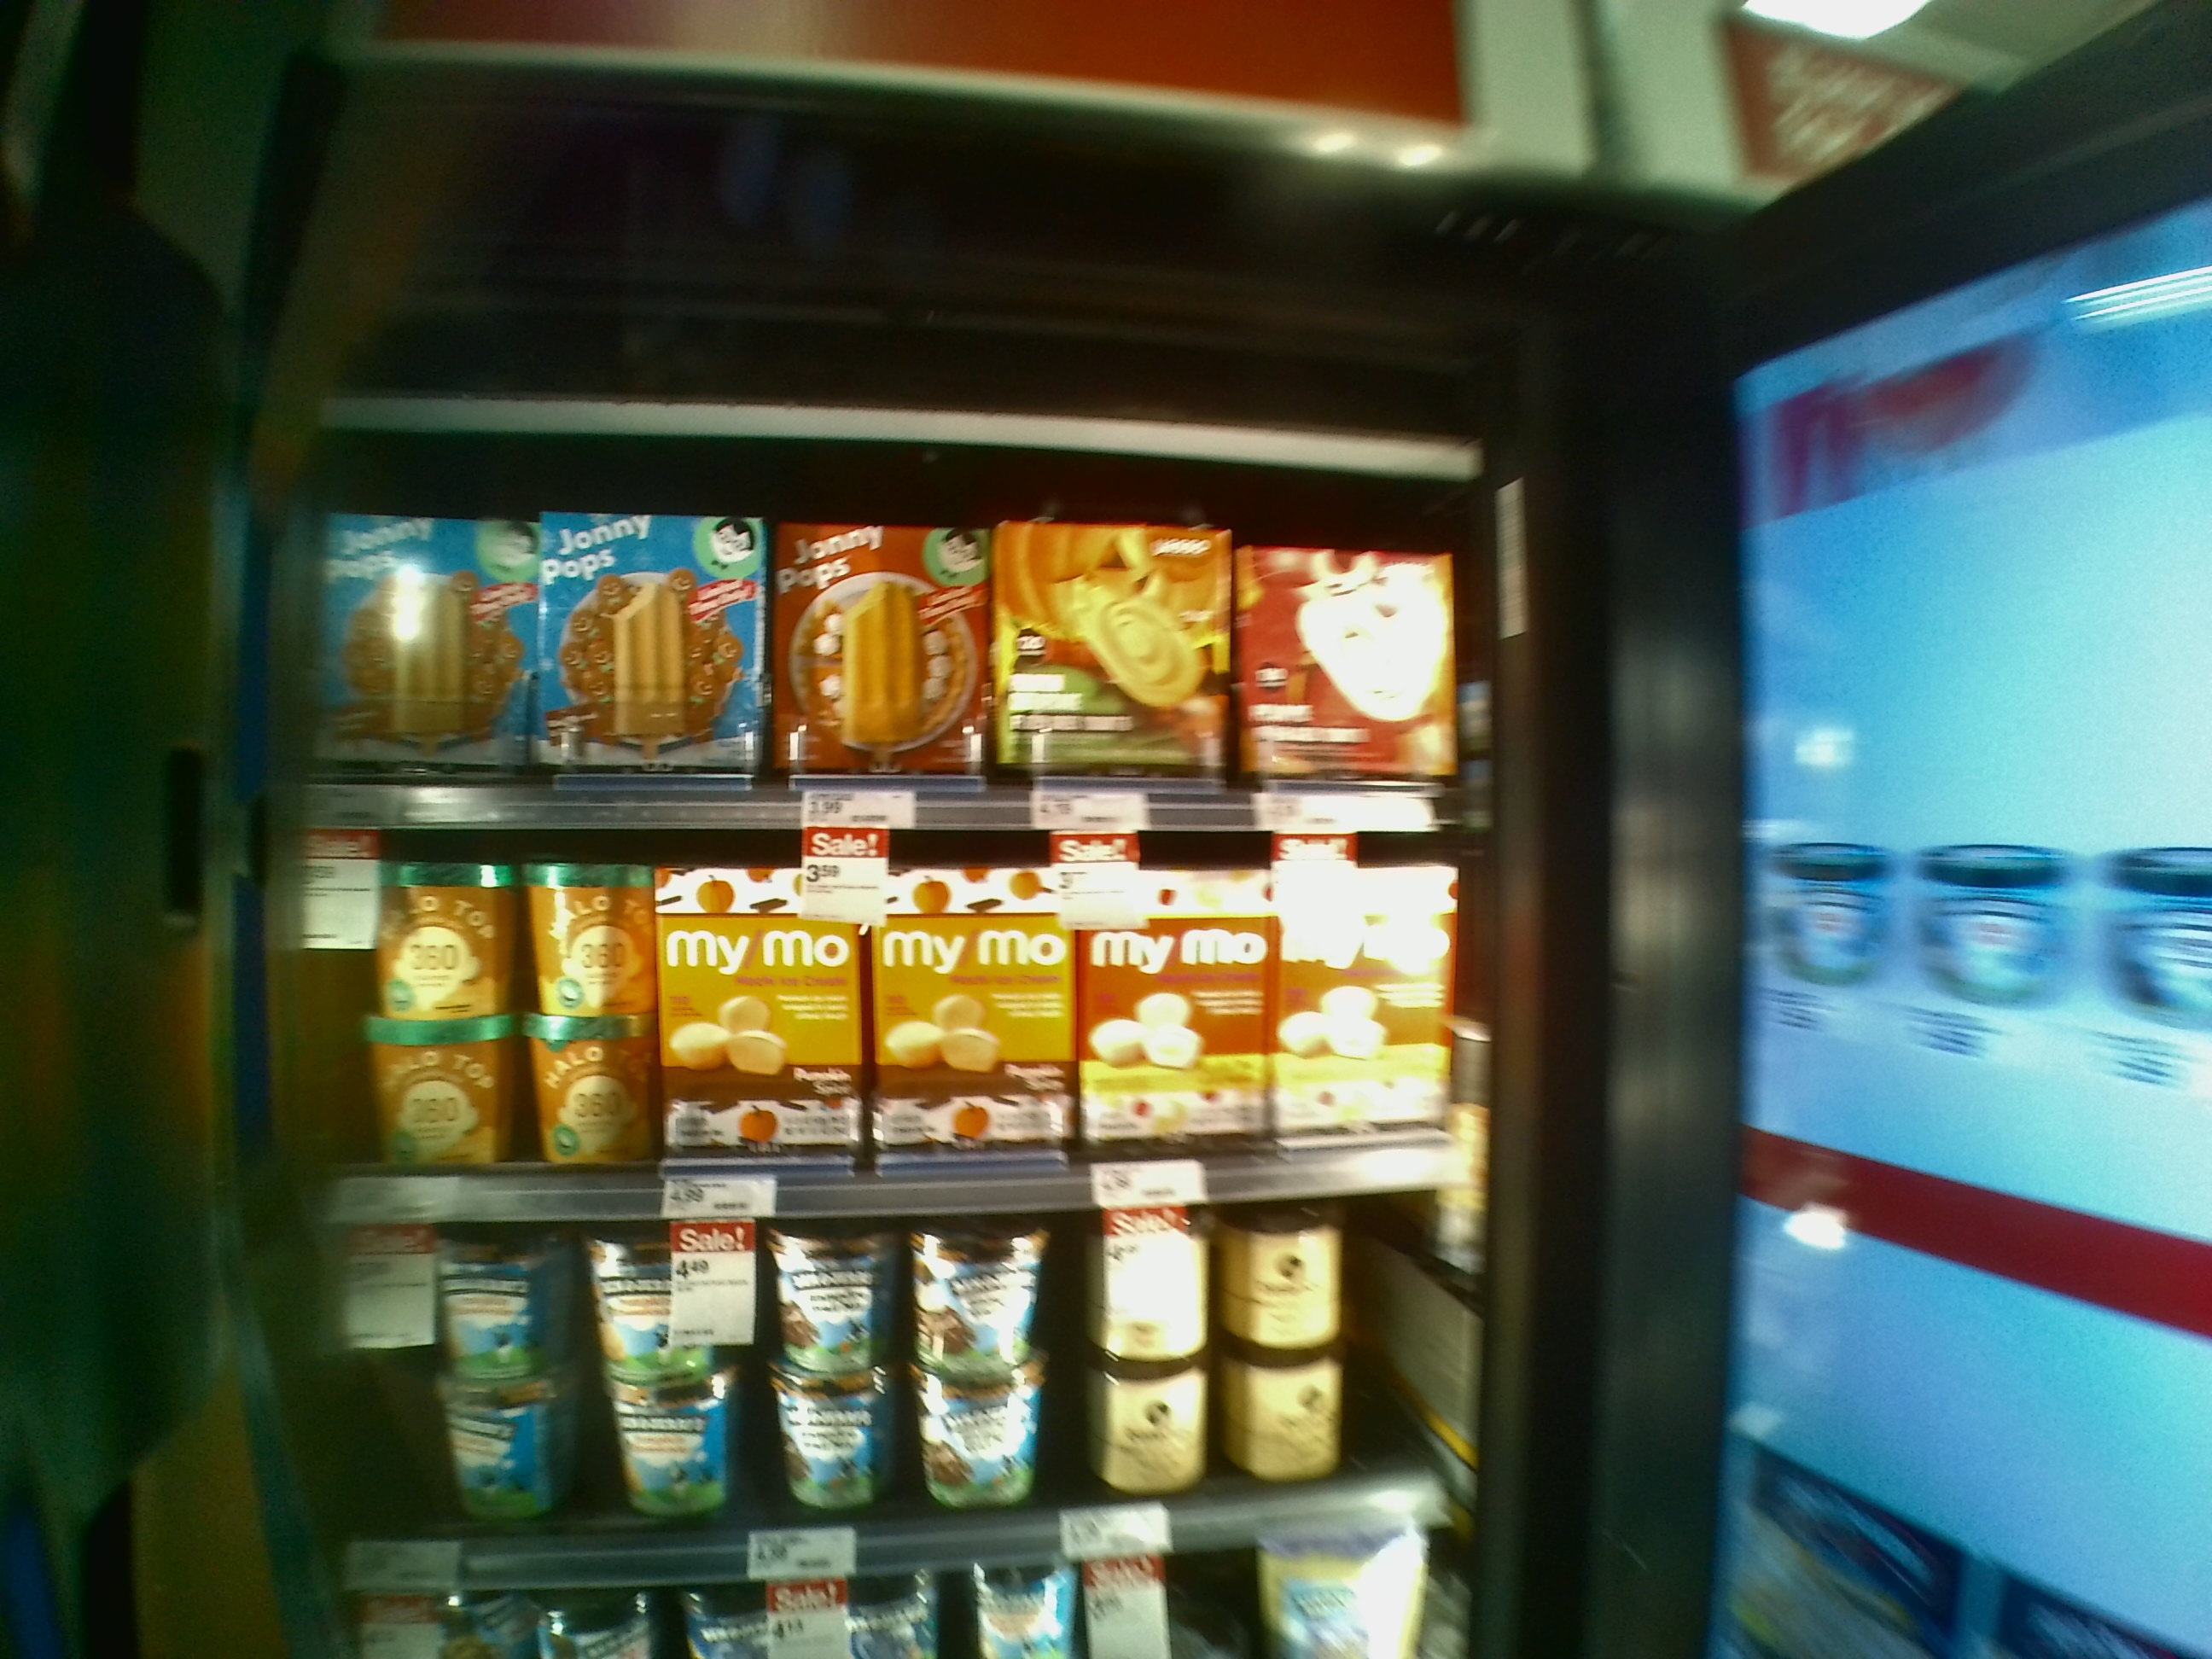shelf: (221, 779, 1503, 1218), (249, 416, 1493, 835), (226, 1161, 1486, 1554)
